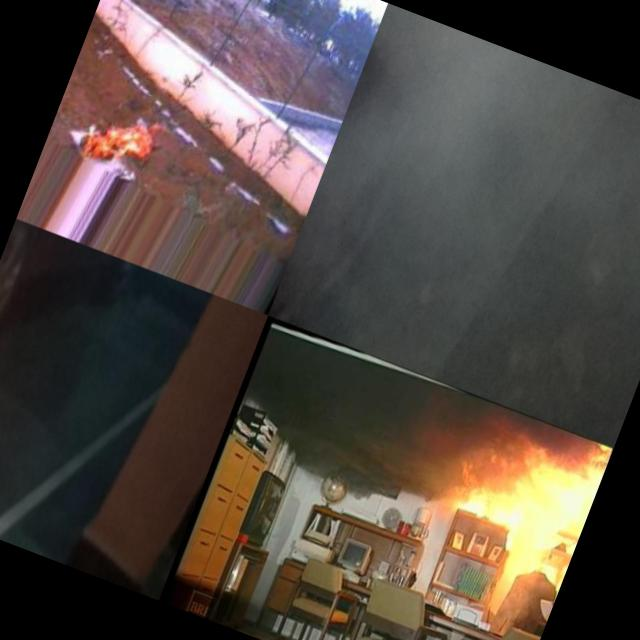fire: (458, 434, 602, 554), (65, 90, 171, 184)
smoke: (268, 3, 640, 448)
